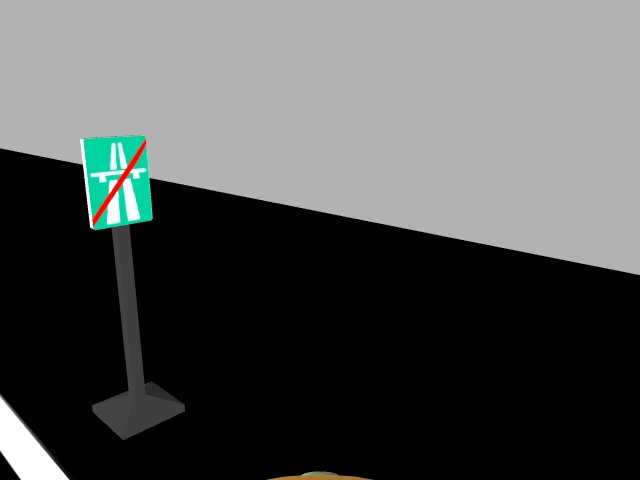HighwayExit: (77, 133, 156, 226)
